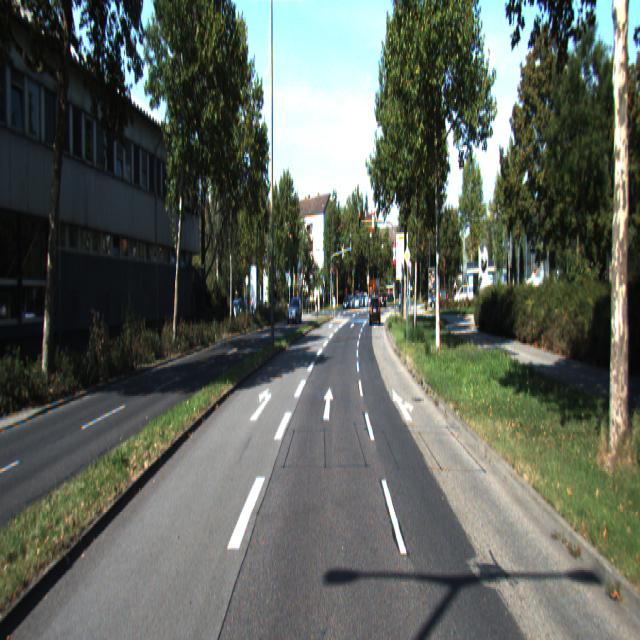Car: (287, 296, 302, 324), (370, 295, 380, 326)
